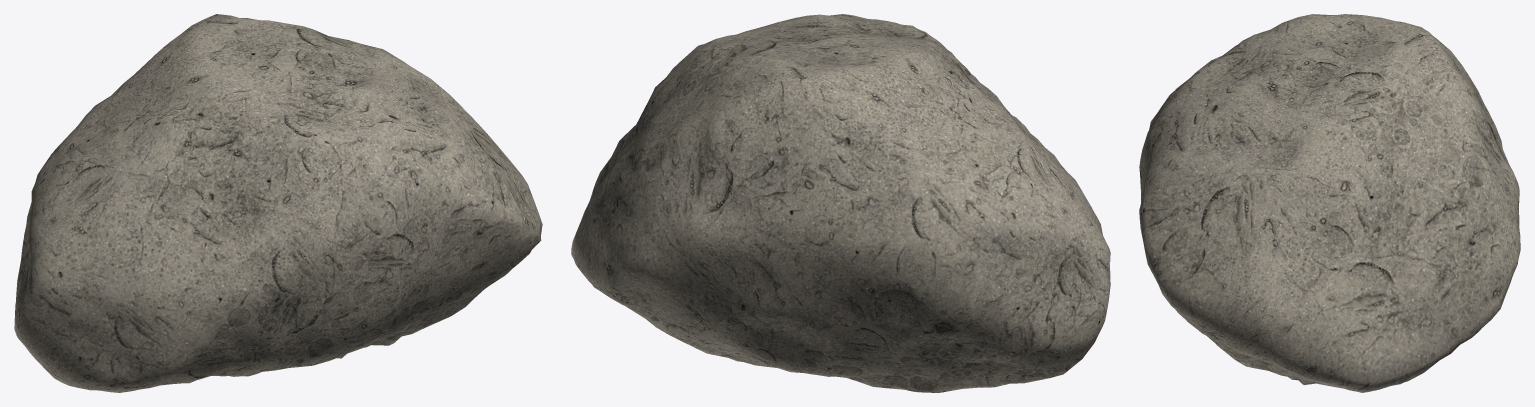
File: apophis.glb
The picture shows the model from 3 angles, left to right: view 1: azimuth 30°, elevation 25°; view 2: azimuth 150°, elevation 25°; view 3: azimuth 270°, elevation 25°; orthographic projection. The views are drawn at different scales.
Parts seen in each view (by area): view 1: apophis; view 2: apophis; view 3: apophis.
Part boxes in pixels (x1=…): apophis: x1=14, y1=14, x2=542, y2=392; apophis: x1=571, y1=14, x2=1110, y2=392; apophis: x1=1139, y1=14, x2=1520, y2=392.
Bounding box in the file's own units: 1.47 × 0.8951 × 1.02.
Materials: 1 (1 with a texture image).
